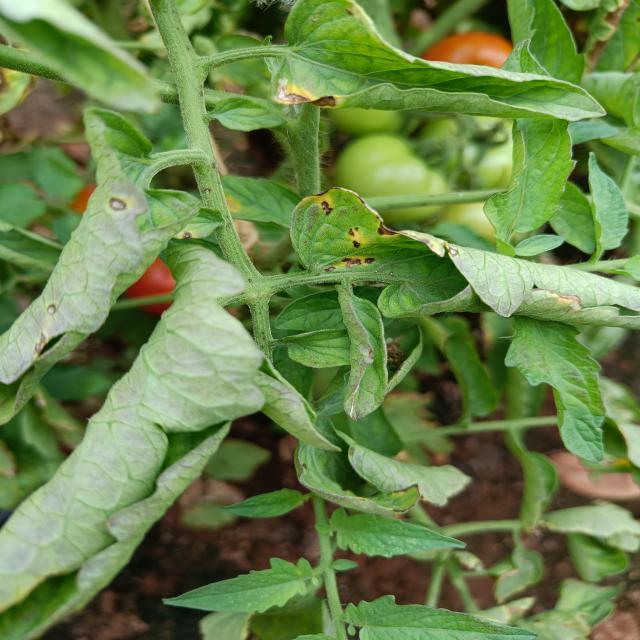Tomato mosaic virus leaf: (286, 186, 640, 324), (261, 0, 613, 123), (163, 202, 224, 252)
